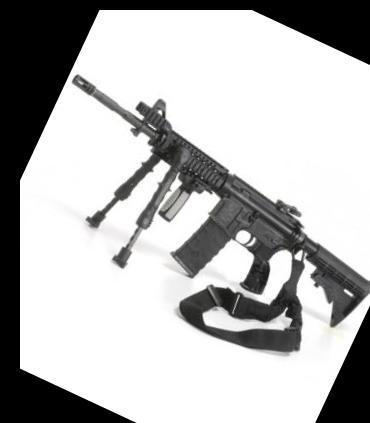gun: (63, 129, 250, 332)
person: (136, 25, 370, 416)
